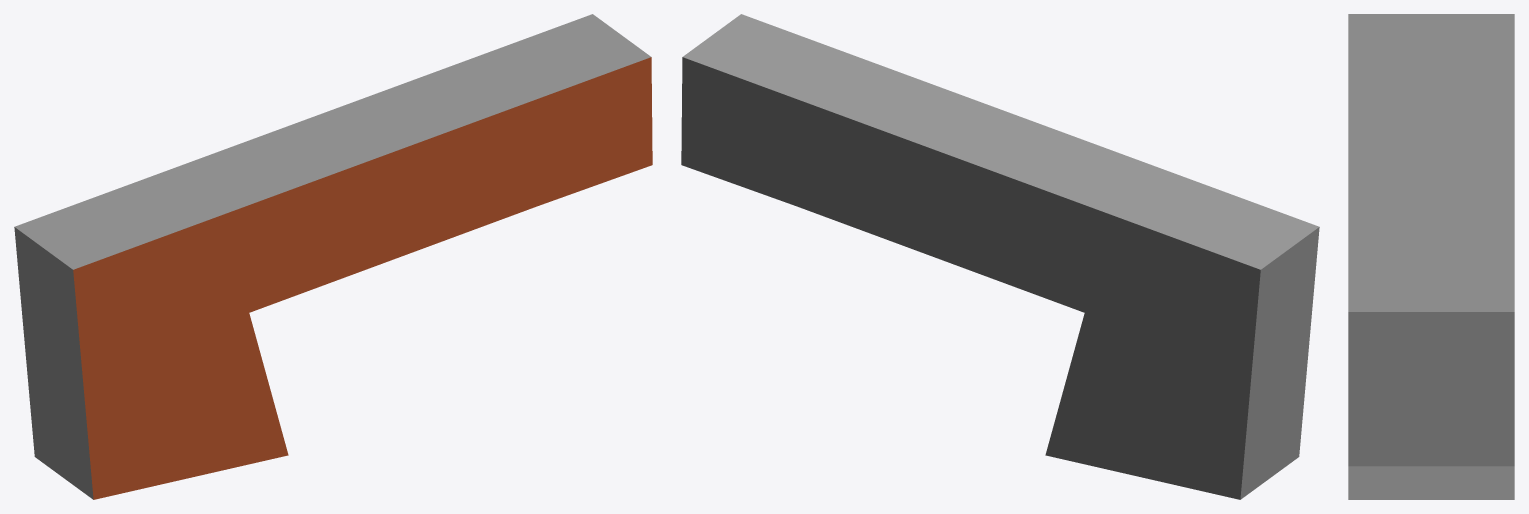
The model's file is construction_7257_assumed_A_Ruinas_h6m.obj.
3 renders of one model, left to right at view 1: azimuth 30°, elevation 25°; view 2: azimuth 150°, elevation 25°; view 3: azimuth 270°, elevation 25°, orthographic. The views are drawn at different scales.
Visible parts, largest first — view 1: construction_7257_assumed_A_Ruinas; view 2: construction_7257_assumed_A_Ruinas; view 3: construction_7257_assumed_A_Ruinas.
Boxes of the visible parts, x1,y1,x2,y2 form: construction_7257_assumed_A_Ruinas: [14, 14, 652, 499]; construction_7257_assumed_A_Ruinas: [681, 14, 1319, 499]; construction_7257_assumed_A_Ruinas: [1348, 14, 1514, 499].
Bounding box in the file's own units: 34.12 × 17.43 × 6.
